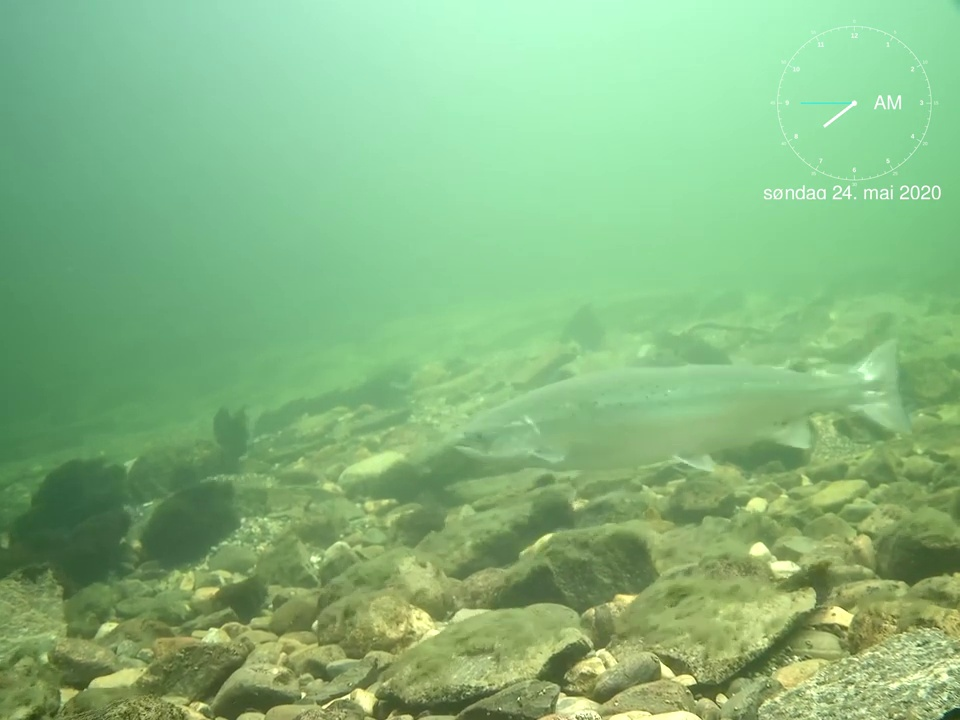salmon: (449, 333, 915, 478)
